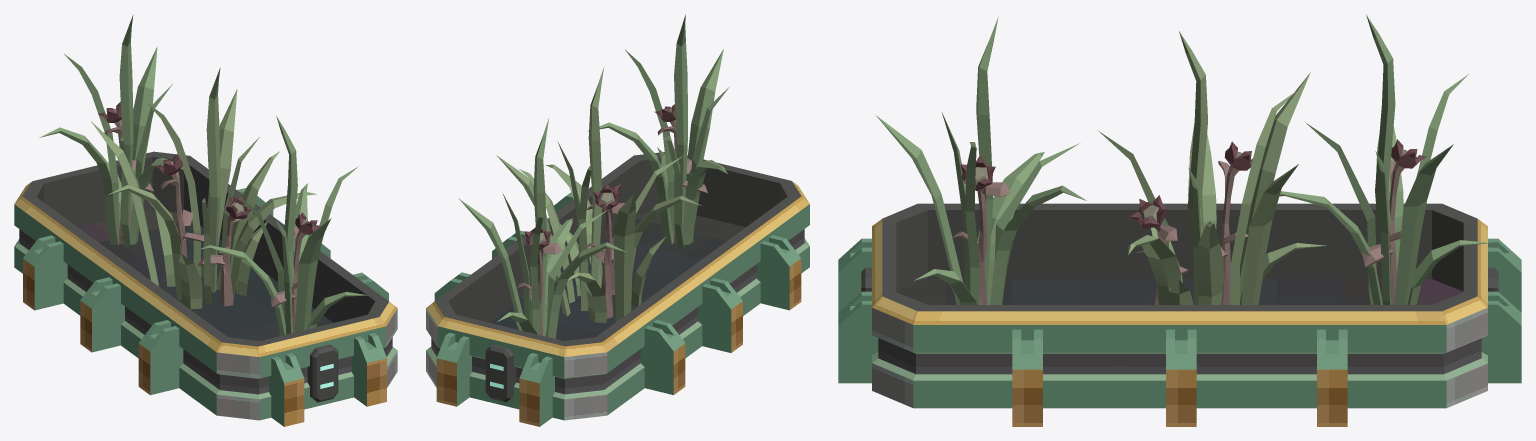
File: entity106888.glb
3 views of the same model, side by side, from view 1: azimuth 30°, elevation 25°; view 2: azimuth 150°, elevation 25°; view 3: azimuth 270°, elevation 25° (orthographic). The views are drawn at different scales.
Visible parts, largest first — view 1: node_SM_Prop_Hydroponic_Planter_01 (6), node_SM_Prop_Hydroponic_Plant_02, node_SM_Prop_Hydroponic_Plant_01, node_SM_Prop_Hydroponic_Plant_01 (1); view 2: node_SM_Prop_Hydroponic_Planter_01 (6), node_SM_Prop_Hydroponic_Plant_02, node_SM_Prop_Hydroponic_Plant_01 (1), node_SM_Prop_Hydroponic_Plant_01; view 3: node_SM_Prop_Hydroponic_Planter_01 (6), node_SM_Prop_Hydroponic_Plant_02, node_SM_Prop_Hydroponic_Plant_01, node_SM_Prop_Hydroponic_Plant_01 (1).
Part boxes in pixels (x1,y1,x2,y2): node_SM_Prop_Hydroponic_Planter_01 (6): (14, 151, 397, 426); node_SM_Prop_Hydroponic_Plant_02: (91, 67, 316, 309); node_SM_Prop_Hydroponic_Plant_01: (39, 15, 182, 247); node_SM_Prop_Hydroponic_Plant_01 (1): (199, 116, 368, 335); node_SM_Prop_Hydroponic_Planter_01 (6): (426, 152, 809, 426); node_SM_Prop_Hydroponic_Plant_02: (496, 66, 701, 322); node_SM_Prop_Hydroponic_Plant_01 (1): (586, 14, 728, 247); node_SM_Prop_Hydroponic_Plant_01: (458, 118, 627, 338); node_SM_Prop_Hydroponic_Planter_01 (6): (838, 203, 1521, 426); node_SM_Prop_Hydroponic_Plant_02: (1098, 31, 1326, 304); node_SM_Prop_Hydroponic_Plant_01: (1279, 14, 1490, 304); node_SM_Prop_Hydroponic_Plant_01 (1): (876, 17, 1086, 304).
Size of the model in its own units: 2.05 by 2.08 by 3.85.
1 material, 1 textured.
